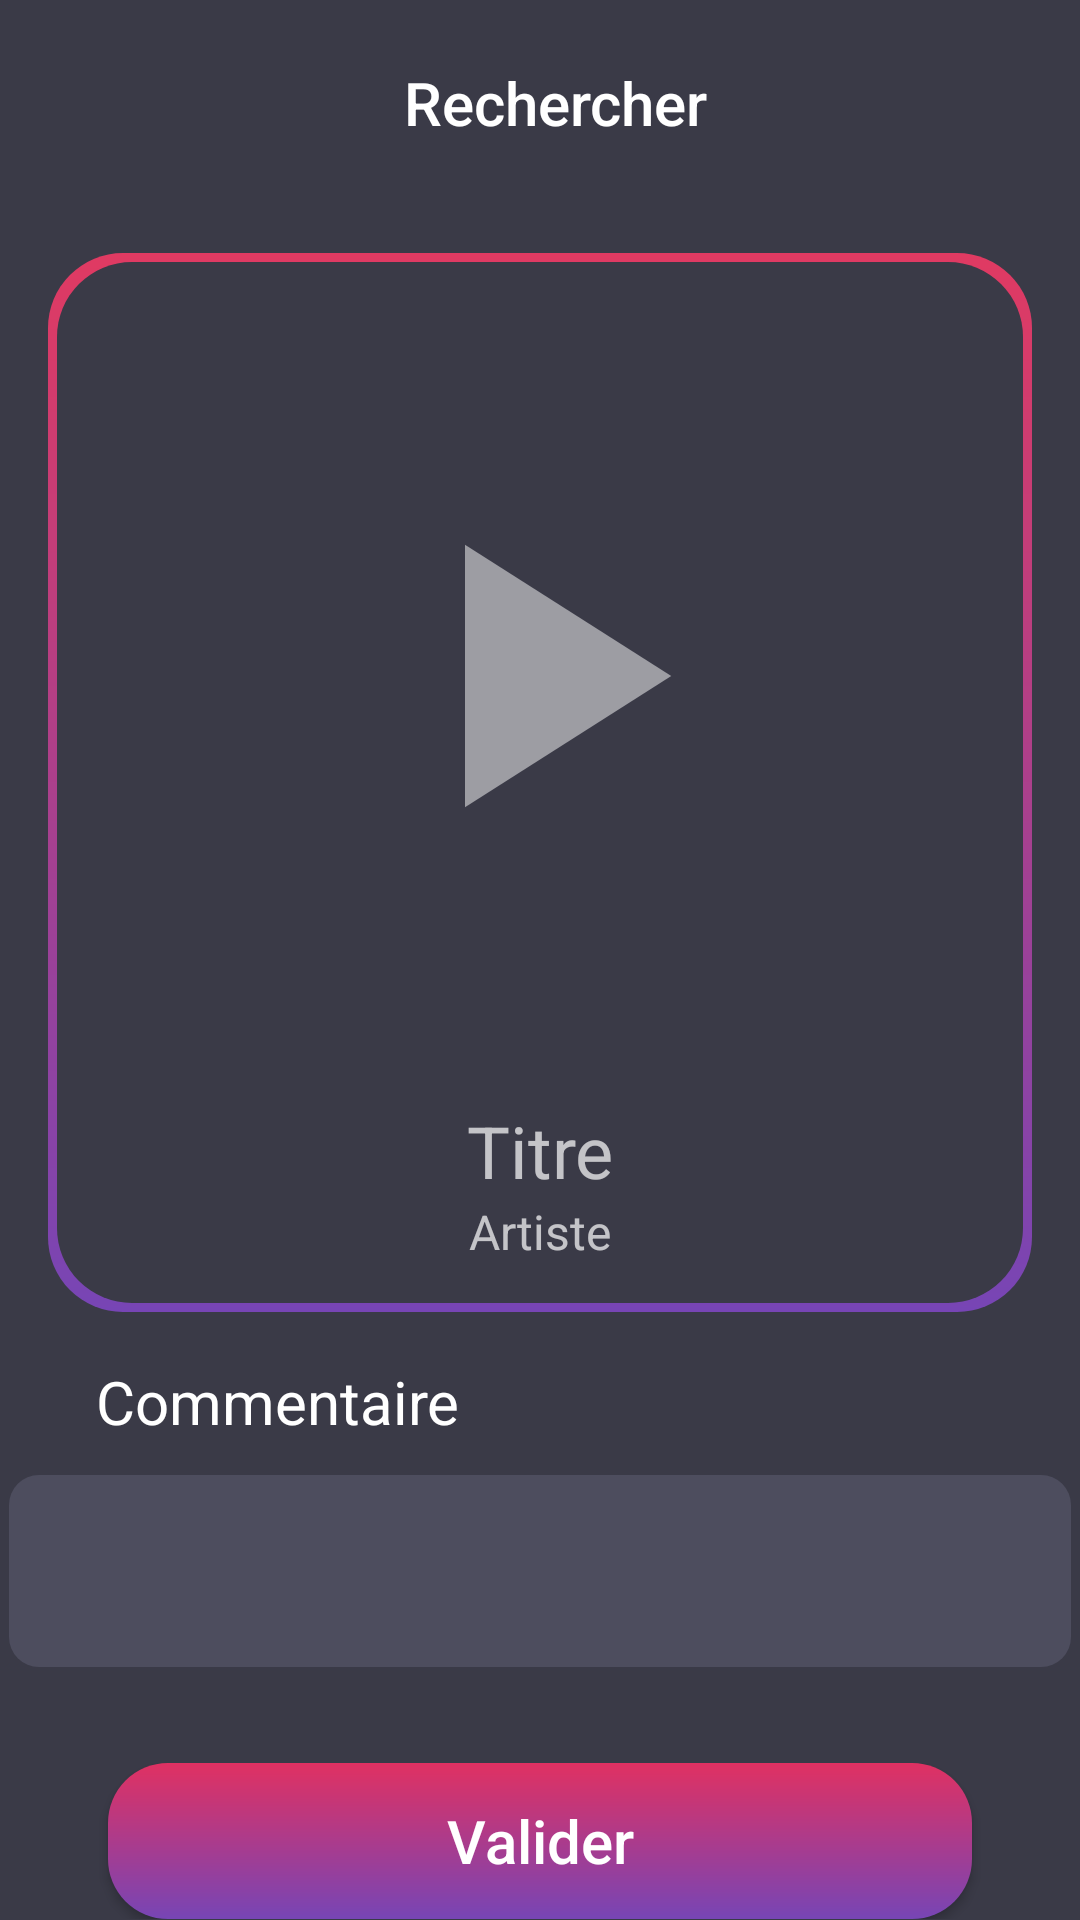

Icon click points for this 1080 x 1920 phone screenshot, format (x,y):
play: (568,676)
